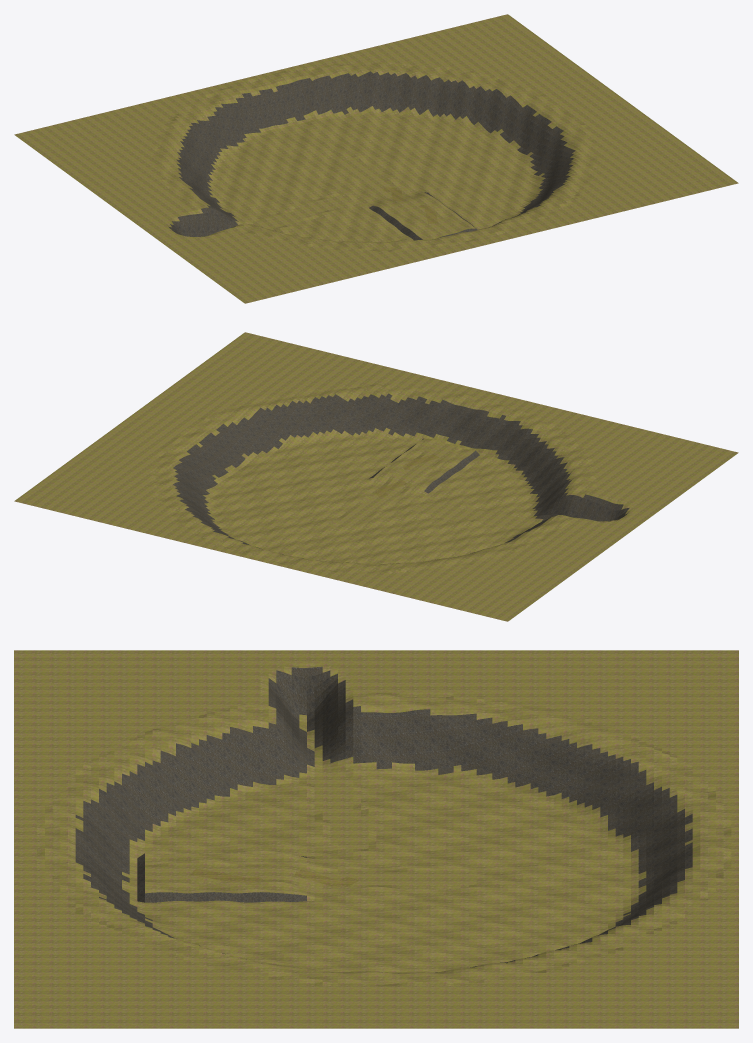
The model's file is pit.gltf.
3 views of the same model, one above another, from view 1: azimuth 30°, elevation 25°; view 2: azimuth 150°, elevation 25°; view 3: azimuth 270°, elevation 25° (orthographic). The views are drawn at different scales.
Bounding box in the file's own units: 290 × 15.39 × 235.
3 materials, 3 textured.
